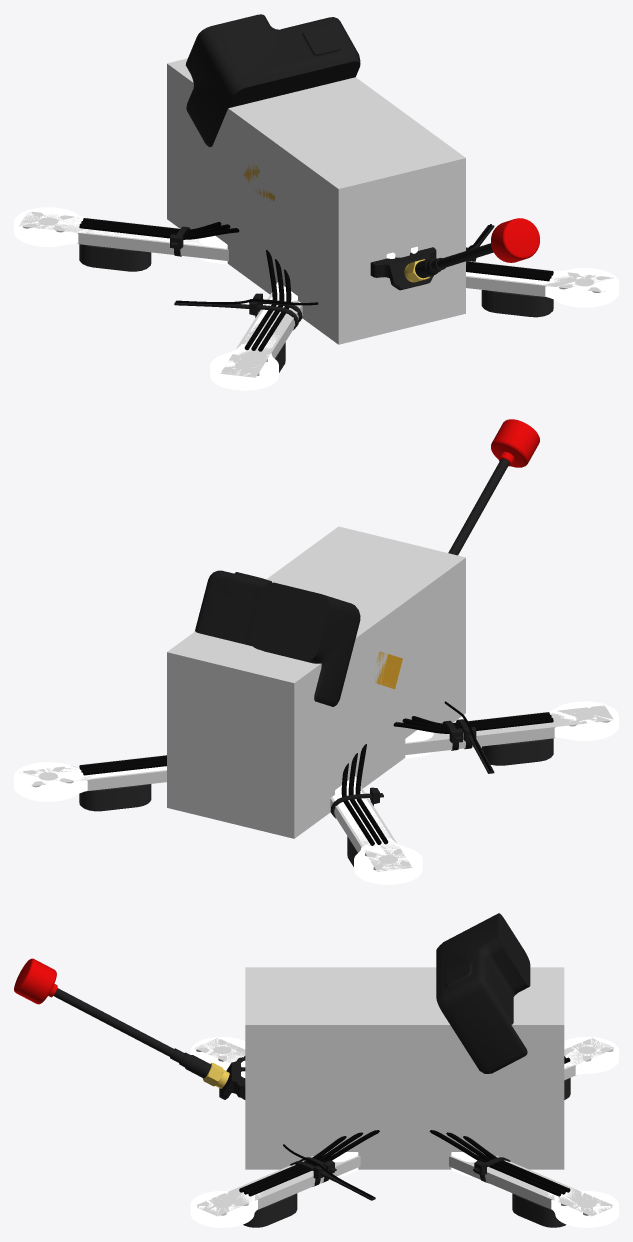
Rendered from Frame1.glb.
3 renders of one model, top to bottom at view 1: azimuth 30°, elevation 25°; view 2: azimuth 150°, elevation 25°; view 3: azimuth 270°, elevation 25°, orthographic. The views are drawn at different scales.
Visible parts, largest first — view 1: Body-colbox, GoPro, Arm, MotorWires, Feet, FPVAntenna, Arm1-colbox, Arm4-colbox, Arm3-colbox, AntennaSupport, CableTie_RxAntennas, CableTie_Motors (+1 smaller); view 2: Body-colbox, GoPro, Arm, MotorWires, Feet, Arm4-colbox, FPVAntenna, Arm2-colbox, Arm1-colbox, CableTie_Motors; view 3: Body-colbox, GoPro, Arm, FPVAntenna, MotorWires, Arm2-colbox, Arm3-colbox, Feet, Arm1-colbox, AntennaSupport, Arm4-colbox, CableTie_Motors (+1 smaller).
Part boxes in pixels (<box>): Body-colbox: <box>167,58,465,344</box>; GoPro: <box>185,14,360,147</box>; Arm: <box>14,207,618,390</box>; MotorWires: <box>79,218,553,351</box>; Feet: <box>79,244,553,372</box>; FPVAntenna: <box>404,218,539,282</box>; Arm1-colbox: <box>19,211,228,260</box>; Arm4-colbox: <box>220,292,302,377</box>; Arm3-colbox: <box>466,261,613,296</box>; AntennaSupport: <box>370,247,436,290</box>; CableTie_RxAntennas: <box>174,225,494,330</box>; CableTie_Motors: <box>170,226,302,322</box>; Body-colbox: <box>167,526,465,838</box>; GoPro: <box>195,570,360,706</box>; Arm: <box>14,701,618,884</box>; MotorWires: <box>79,712,553,845</box>; Feet: <box>79,738,553,866</box>; Arm4-colbox: <box>404,705,613,755</box>; FPVAntenna: <box>448,419,539,555</box>; Arm2-colbox: <box>19,755,166,791</box>; Arm1-colbox: <box>330,786,412,871</box>; CableTie_Motors: <box>330,720,462,818</box>; Body-colbox: <box>245,967,564,1169</box>; GoPro: <box>436,913,530,1073</box>; Arm: <box>190,1037,618,1227</box>; FPVAntenna: <box>14,958,229,1088</box>; MotorWires: <box>239,1056,570,1196</box>; Arm2-colbox: <box>449,1156,612,1216</box>; Arm3-colbox: <box>196,1156,360,1216</box>; Feet: <box>242,1078,570,1227</box>; Arm1-colbox: <box>564,1038,614,1079</box>; AntennaSupport: <box>219,1057,245,1099</box>; Arm4-colbox: <box>195,1038,245,1063</box>; CableTie_Motors: <box>299,1157,510,1183</box>.
Size of the model in its own units: 0.188 by 0.106 by 0.2655.
